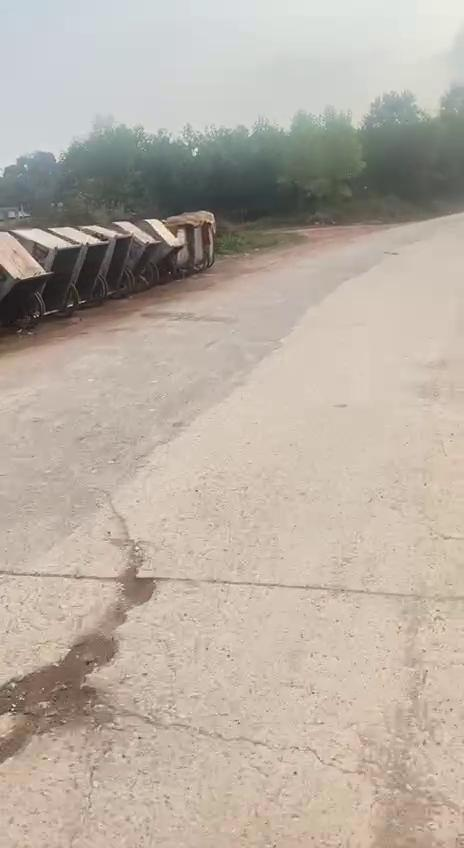pothole: (0, 568, 150, 770)
